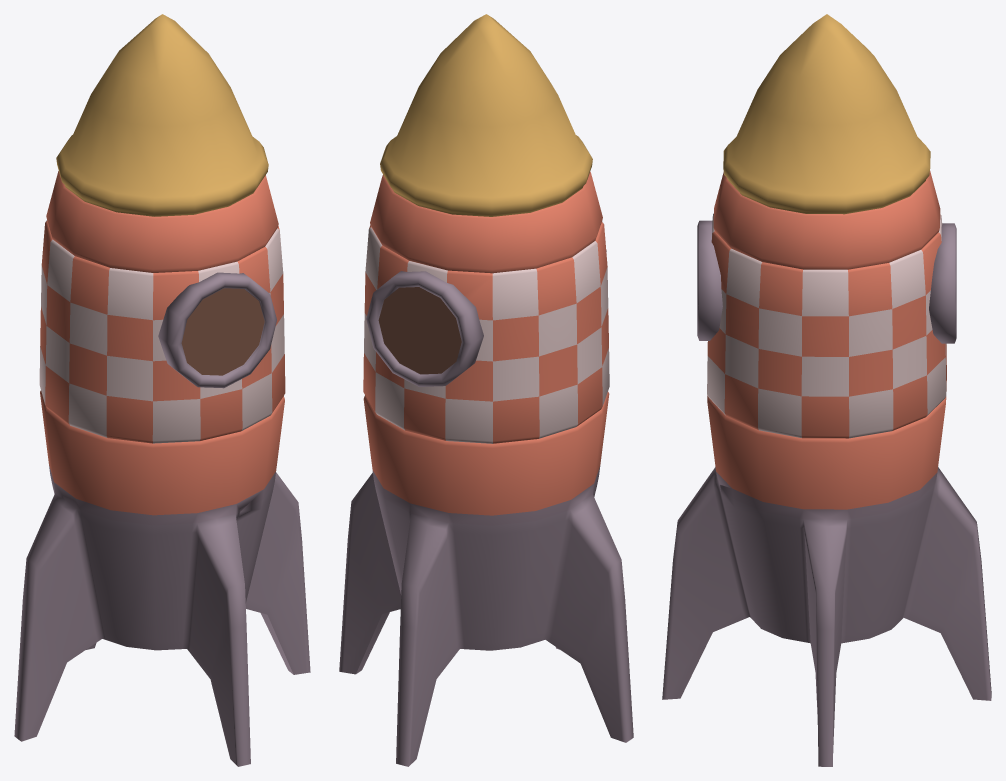
Rendered from Rocket_grad.FBX.
3 views of the same model, side by side, from view 1: azimuth 30°, elevation 25°; view 2: azimuth 150°, elevation 25°; view 3: azimuth 270°, elevation 25° (orthographic).
Visible parts, largest first — view 1: rocket_grad002; view 2: rocket_grad002; view 3: rocket_grad002.
Part boxes in pixels (left/top/right/bottom): rocket_grad002: left=14, top=14, right=310, bottom=766; rocket_grad002: left=339, top=14, right=633, bottom=766; rocket_grad002: left=662, top=14, right=991, bottom=766.
Size of the model in its own units: 2849 by 2849 by 6518.
Materials: 1 (1 with a texture image).
